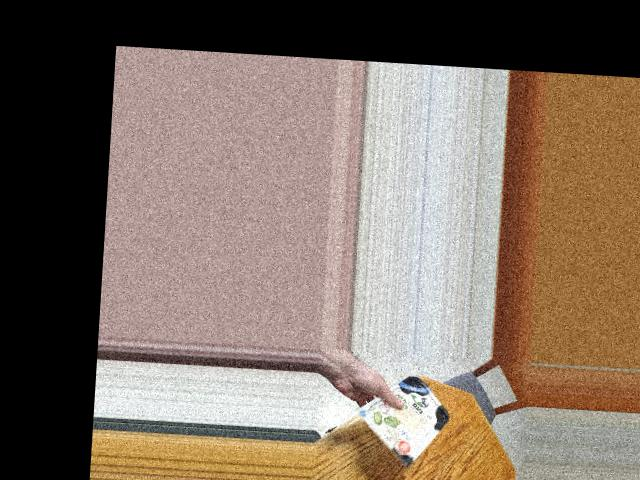cheese: (371, 373, 443, 456)
